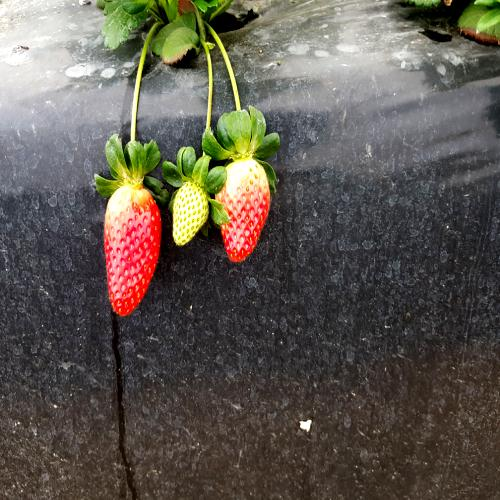ripe: (100, 174, 158, 318), (221, 134, 269, 254)
unripe: (176, 167, 211, 245)
